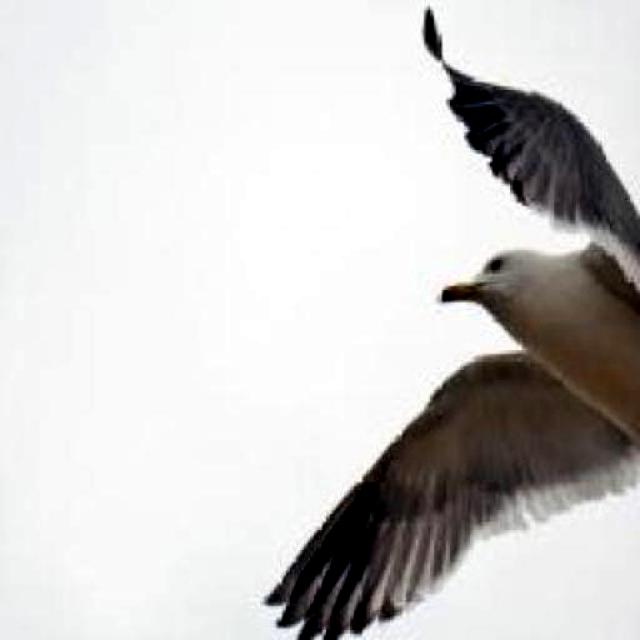airplane: (266, 4, 640, 640)
